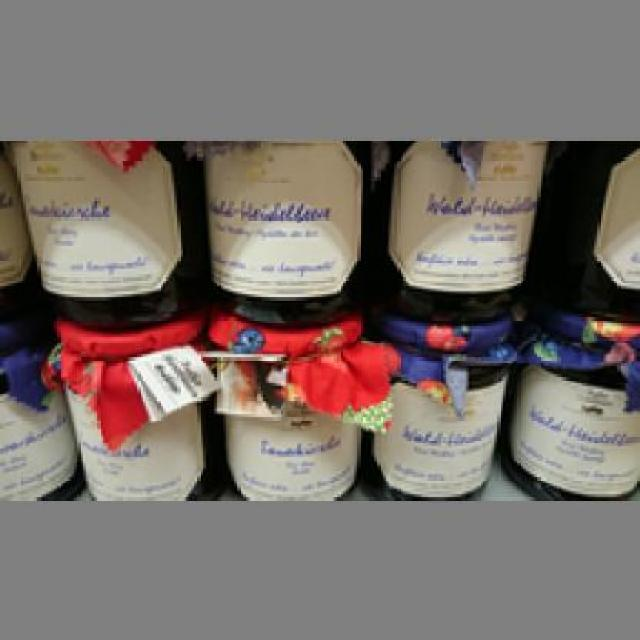Jam: (3, 140, 200, 326), (186, 137, 372, 323), (203, 308, 380, 494), (40, 312, 214, 498), (373, 137, 550, 314), (363, 312, 511, 498), (497, 302, 637, 498)
